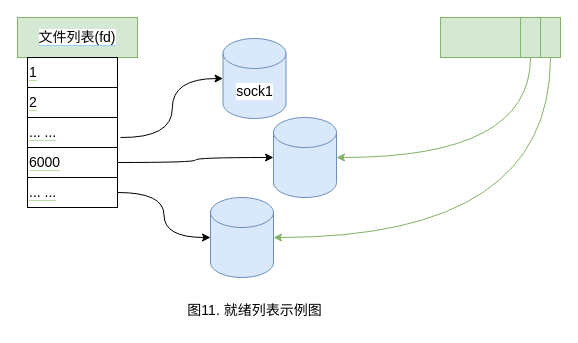
Some shapes in this 578 by 343 pixel diagram are drawn without their labels. Each missing label, with the centre of its shape:
rdlist: point (480, 37)
sock2: point (304, 157)
sock3: point (242, 237)
